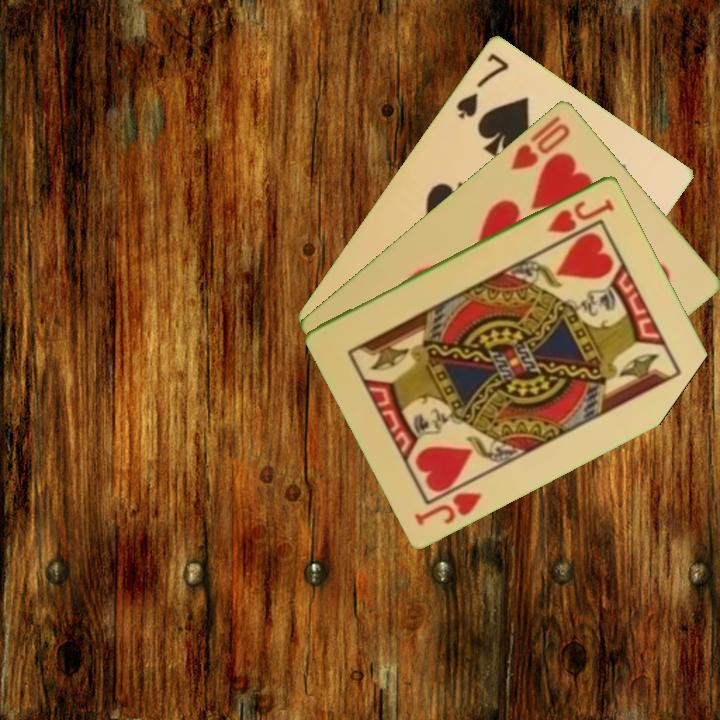10h: (507, 111, 573, 173)
7s: (452, 49, 512, 122)
Jh: (543, 195, 618, 236), (410, 487, 485, 528)
